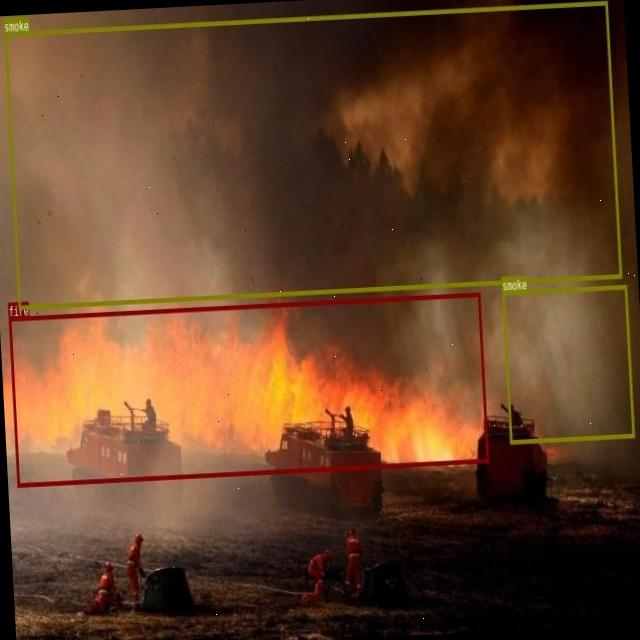fire: (9, 292, 488, 487)
smoke: (4, 0, 622, 308), (502, 284, 634, 444)
